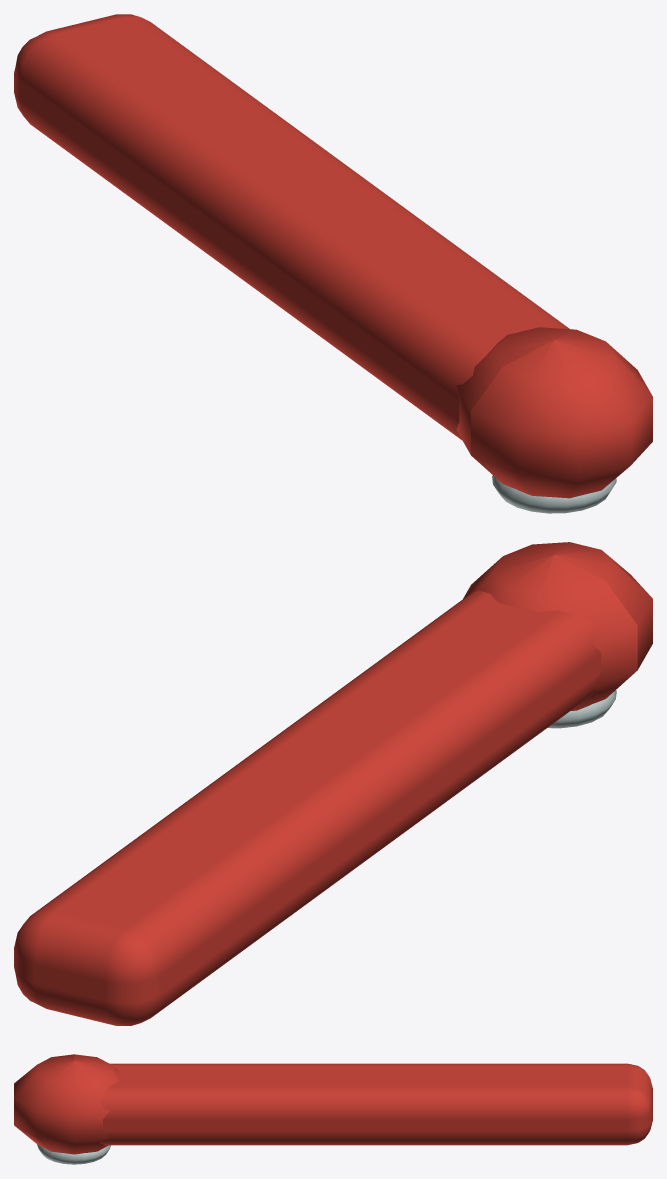
Rendered from mixer-arm-light.glb.
3 renders of one model, top to bottom at view 1: azimuth 30°, elevation 25°; view 2: azimuth 150°, elevation 25°; view 3: azimuth 270°, elevation 25°, orthographic. The views are drawn at different scales.
Visible parts, largest first — view 1: red, steel; view 2: red, steel; view 3: red, steel.
Part boxes in pixels (x1,y1,x2,y2): red: (14, 14, 652, 498); steel: (492, 475, 616, 513); red: (14, 542, 652, 1025); steel: (548, 690, 616, 728); red: (14, 1054, 652, 1154); steel: (37, 1144, 110, 1164).
Size of the model in its own units: 0.5516 by 0.4746 by 3.07.
